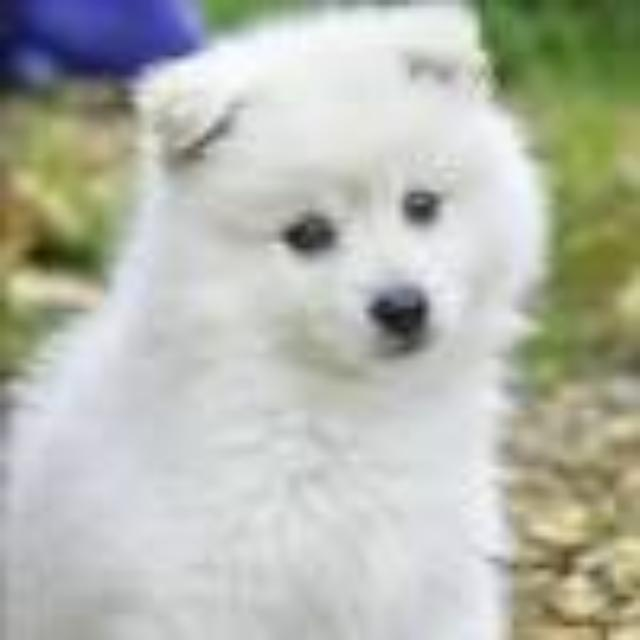dog: (79, 5, 559, 405)
